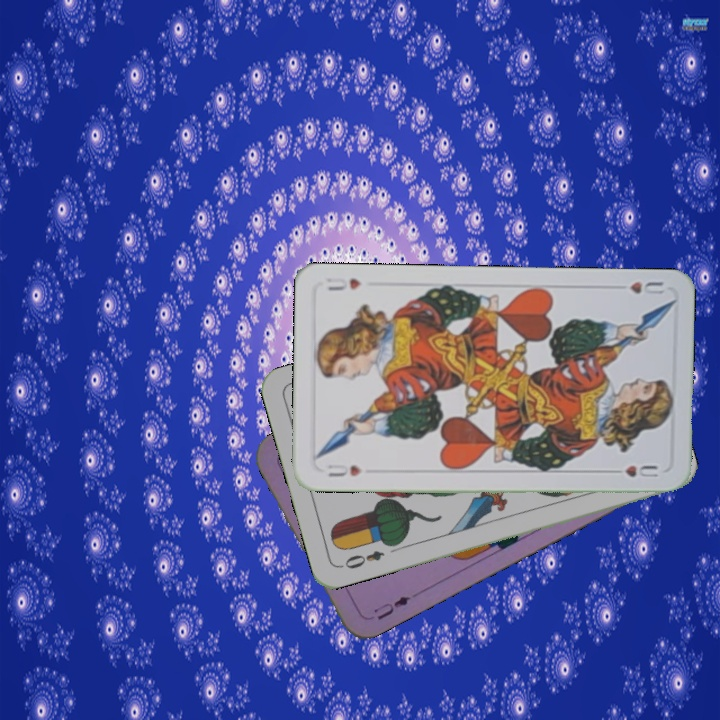EO: (336, 546, 387, 572)
EU: (369, 592, 413, 623)
HU: (626, 277, 667, 297), (323, 460, 364, 479)
